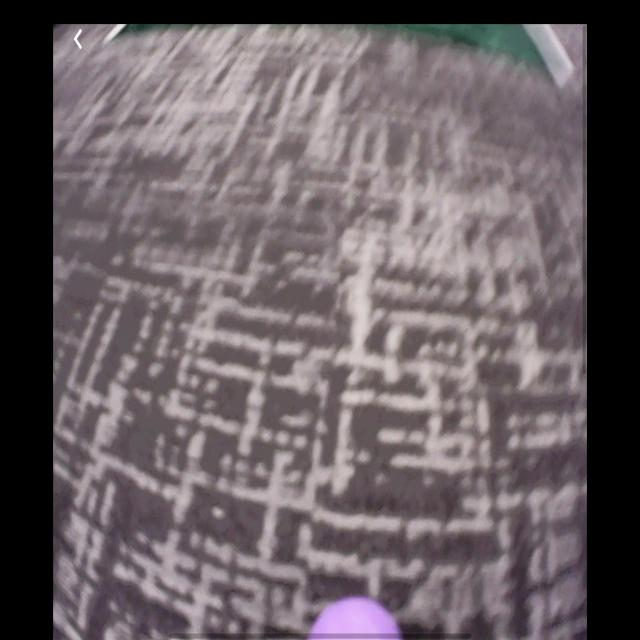ball: (307, 595, 402, 640)
